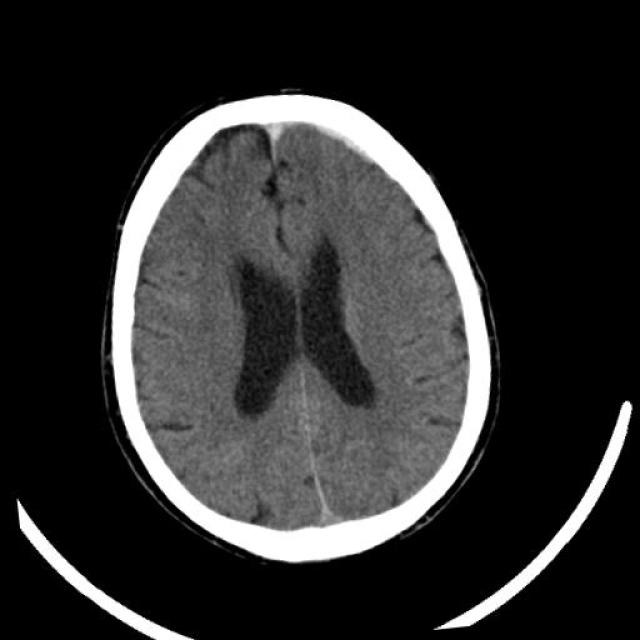Subdural: (250, 94, 404, 216)
